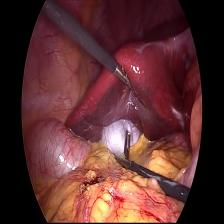Grasper: (107, 127, 134, 173), (118, 62, 133, 96)
